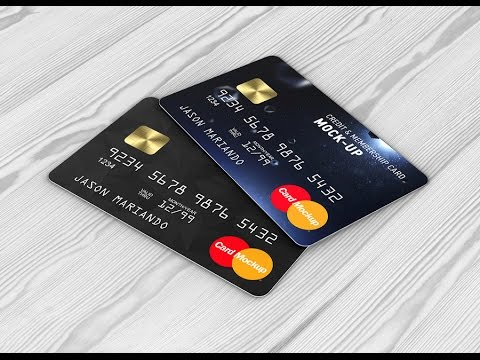tarjeta: (47, 95, 310, 298), (158, 54, 431, 249)
